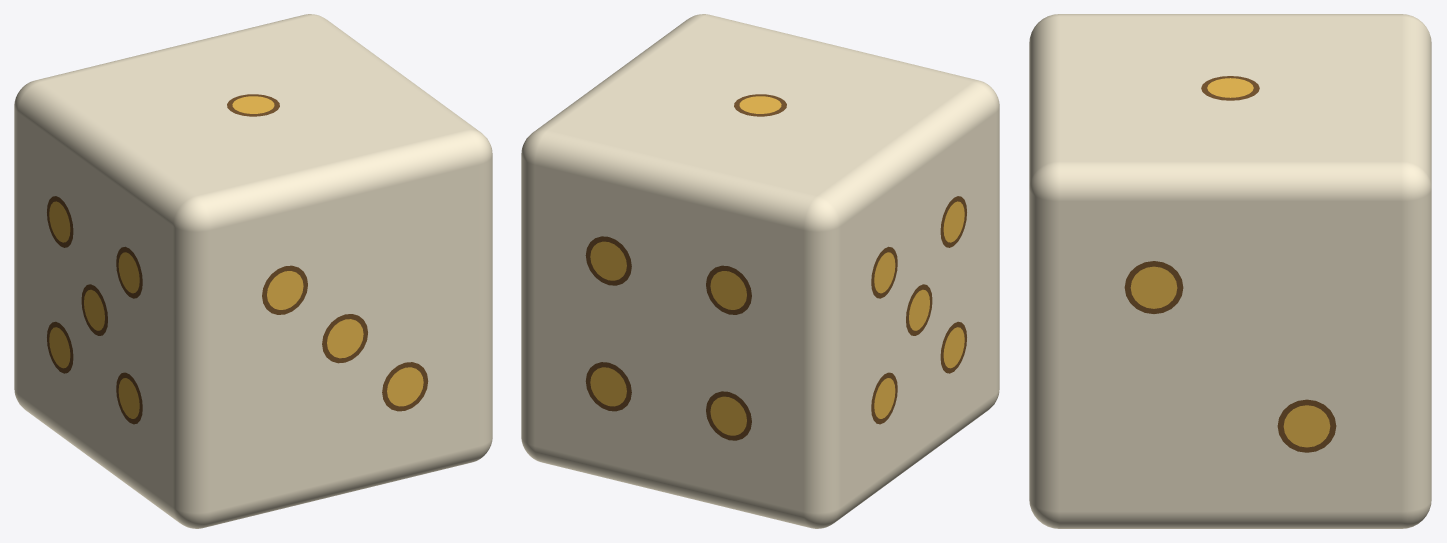
The model's file is wuerfel.glb.
The picture shows the model from 3 angles, left to right: view 1: azimuth 30°, elevation 25°; view 2: azimuth 150°, elevation 25°; view 3: azimuth 270°, elevation 25°; orthographic projection. The views are drawn at different scales.
Parts seen in each view (by area): view 1: MirelonWuerfel; view 2: MirelonWuerfel; view 3: MirelonWuerfel.
Part boxes in pixels (x1=…): MirelonWuerfel: x1=14, y1=14, x2=492, y2=528; MirelonWuerfel: x1=521, y1=14, x2=999, y2=528; MirelonWuerfel: x1=1029, y1=14, x2=1431, y2=528.
Bounding box in the file's own units: 1.01 × 1.01 × 1.01.
